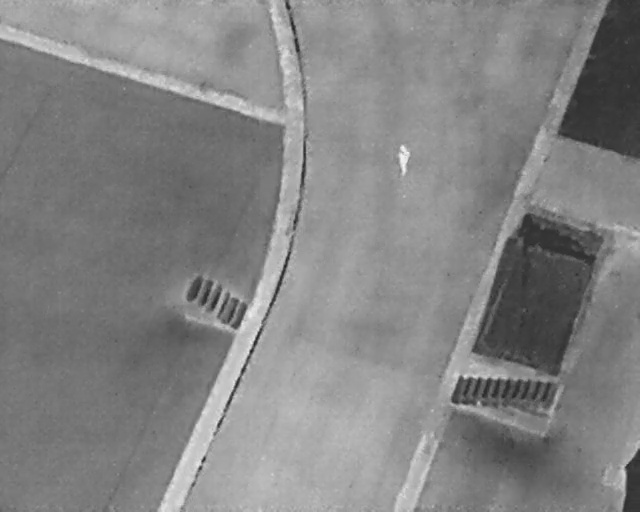Person: (395, 141, 412, 177)
